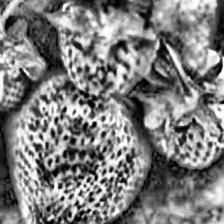Powdery Mildew Fruit: (4, 67, 149, 224), (47, 0, 162, 99), (134, 49, 224, 169)
